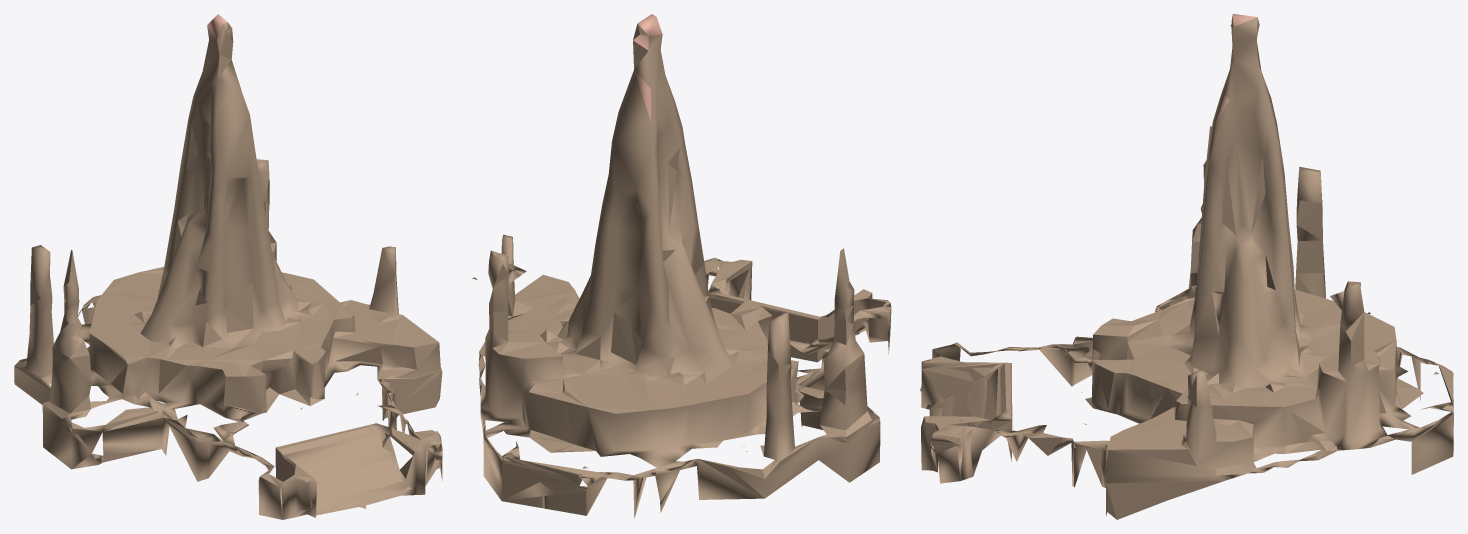
The model's file is templo_mediano_f.glb.
The picture shows the model from 3 angles, left to right: view 1: azimuth 30°, elevation 25°; view 2: azimuth 150°, elevation 25°; view 3: azimuth 270°, elevation 25°; orthographic projection. The views are drawn at different scales.
Visible parts, largest first — view 1: templo_mediano_f; view 2: templo_mediano_f; view 3: templo_mediano_f.
Boxes of the visible parts, <box> form: templo_mediano_f: <box>14,14,442,519</box>; templo_mediano_f: <box>472,14,891,518</box>; templo_mediano_f: <box>920,14,1453,519</box>.
Bounding box in the file's own units: 12.72 × 14.03 × 15.6.
